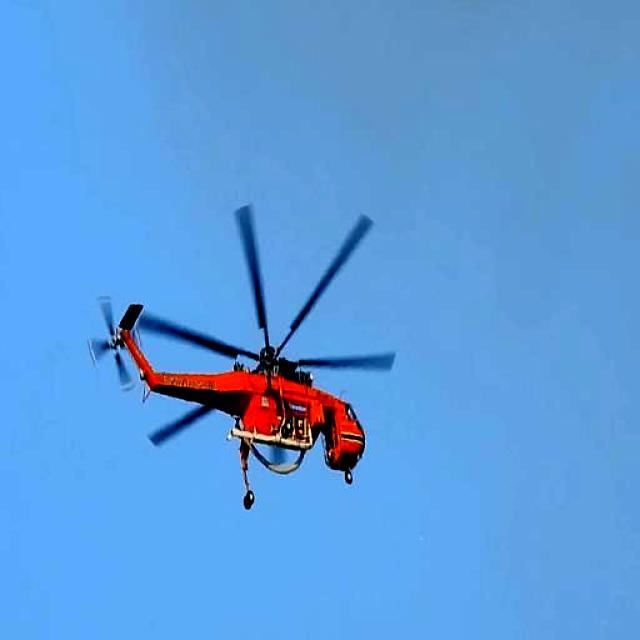drone: (75, 185, 419, 495)
